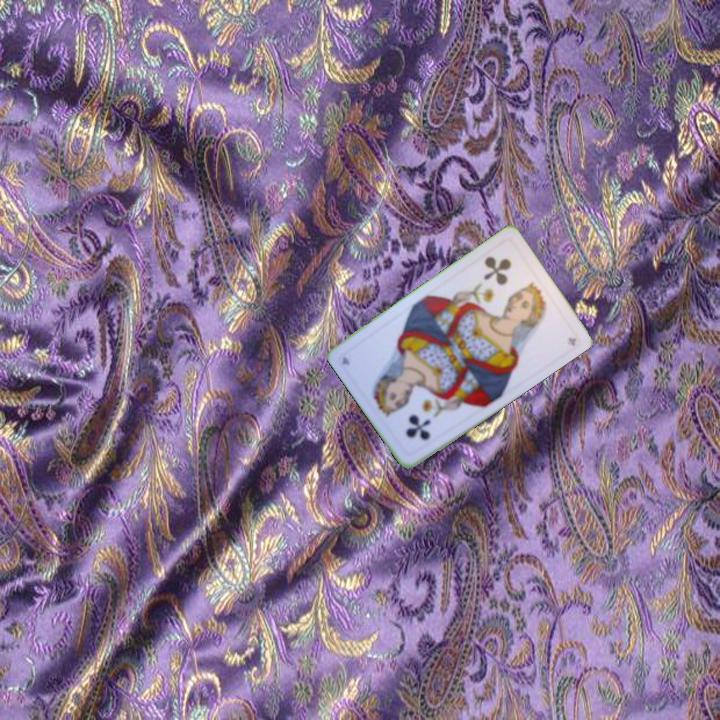c_q.png: (463, 236, 547, 322), (372, 374, 455, 459)
